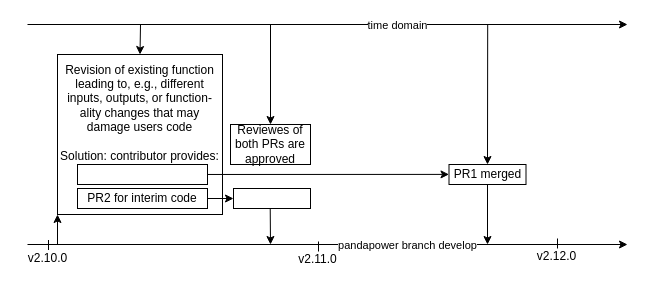
Some shapes in this 653 by 292 pixel diagram are drawn without their labels. The centre of each missing label's shape, as x and y in pixels:
"PR1 for final code" goes at (142,174).
"PR2 merged" goes at (271,198).
